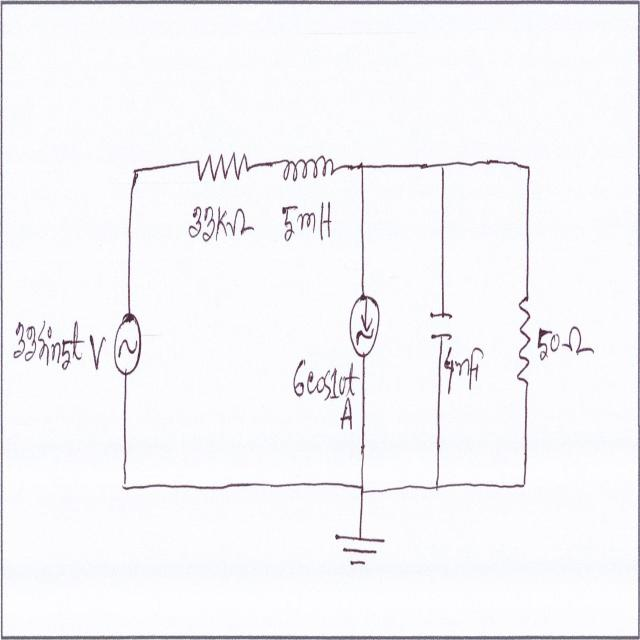ac_current: (112, 312, 144, 385)
capacitor: (429, 306, 455, 346)
current_source: (348, 290, 381, 360)
ground: (330, 522, 388, 572)
inductor: (281, 143, 336, 188)
resistor: (195, 146, 250, 189), (516, 291, 537, 395)
